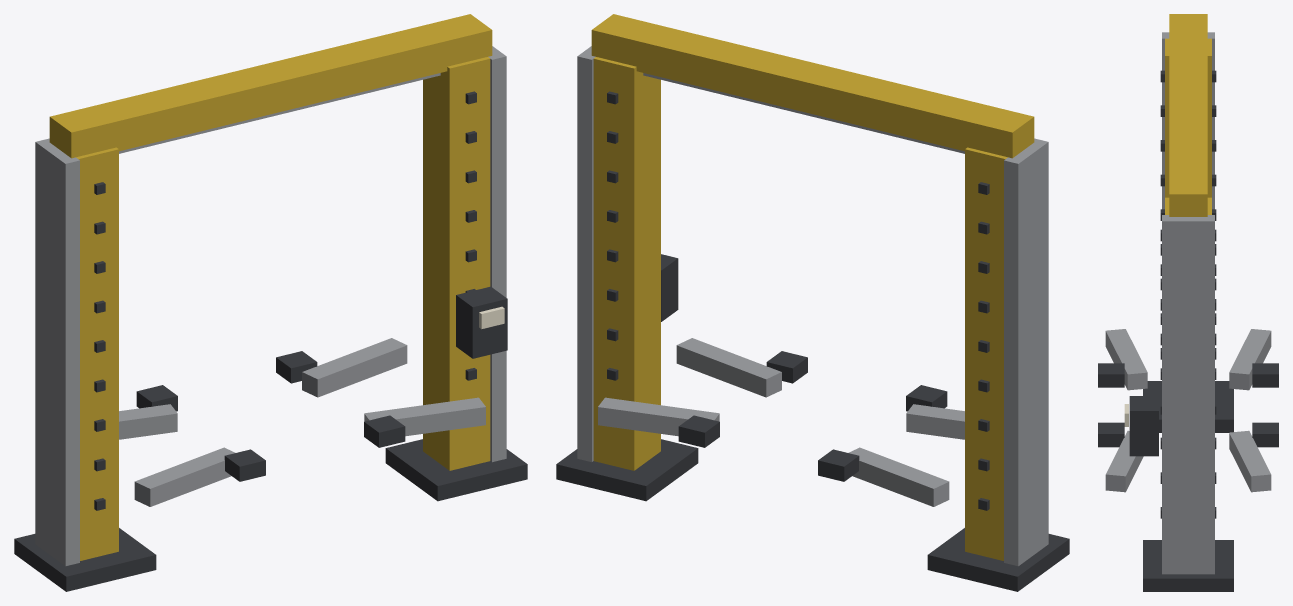
The model's file is car_lift.glb.
The picture shows the model from 3 angles, left to right: view 1: azimuth 30°, elevation 25°; view 2: azimuth 150°, elevation 25°; view 3: azimuth 270°, elevation 25°; orthographic projection. The views are drawn at different scales.
Parts seen in each view (by area): view 1: car_lift; view 2: car_lift; view 3: car_lift.
Part boxes in pixels (x1,y1,x2,y2): car_lift: [14, 14, 527, 591]; car_lift: [556, 14, 1069, 591]; car_lift: [1098, 14, 1278, 591].
Size of the model in its own units: 3.18 by 2.92 by 1.23.
